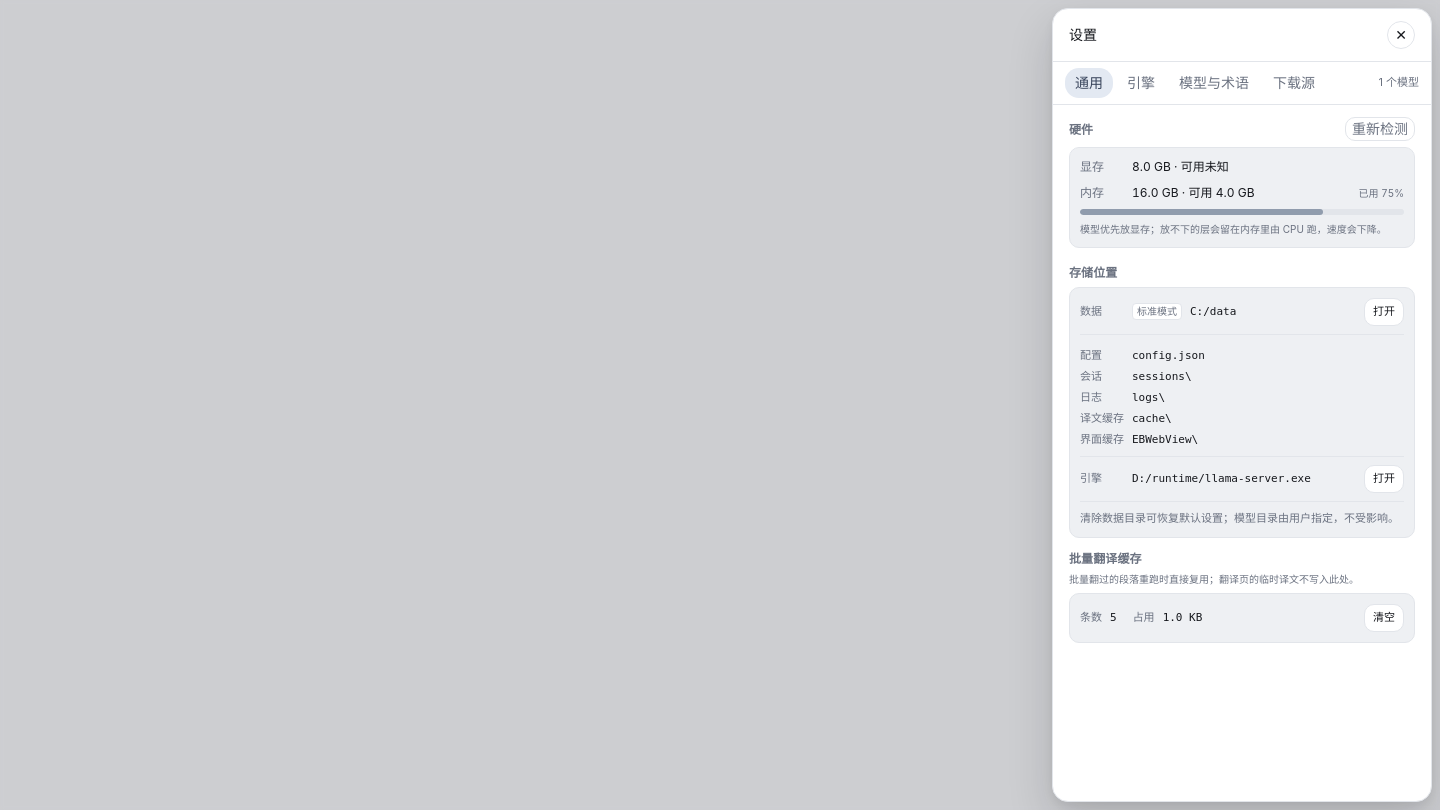
Test: ModelDrawer · 设置读写 › 切走再切回「通用」不会重新探测硬件
The image size is (1440, 810).
Click the tab "引擎" at (1141, 83), box [1117,68,1165,98]
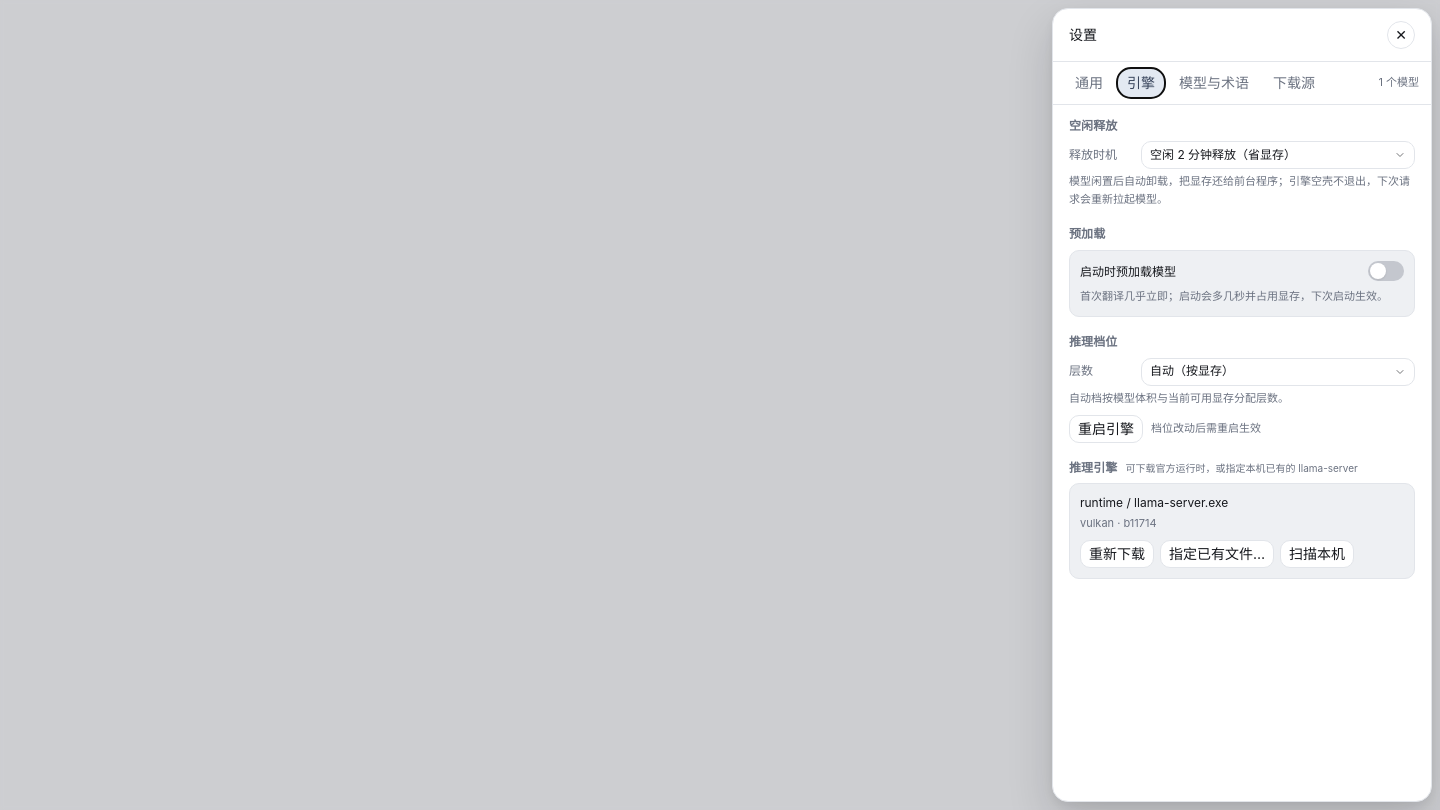
Click the tab "通用" at (1089, 83), box [1065,68,1113,98]
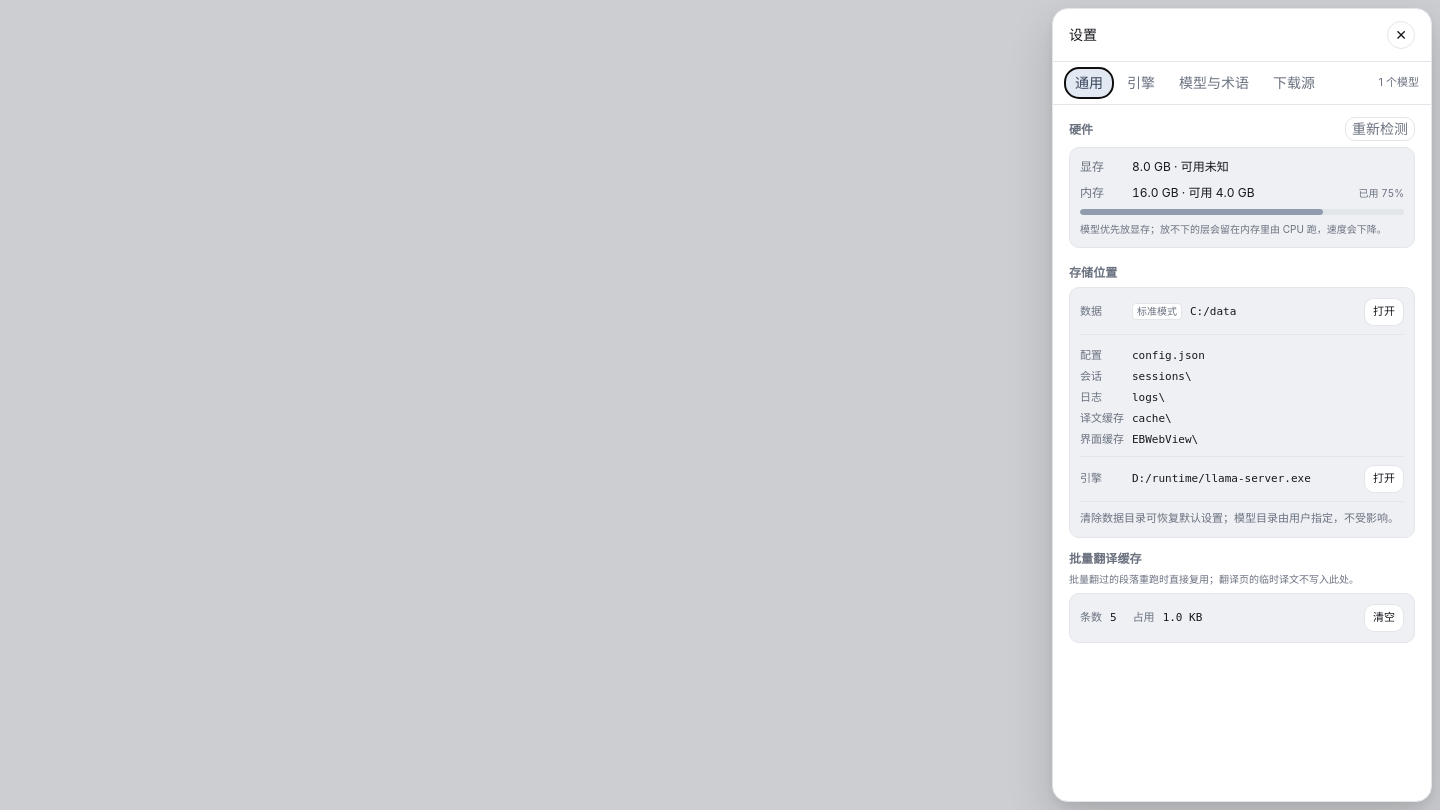
Now the text "8.0 GB · 可用未知" is shown, box [1132,159,1229,174]
Now the text "16.0 GB · 可用 4.0 GB" is shown, box [1132,185,1254,200]
